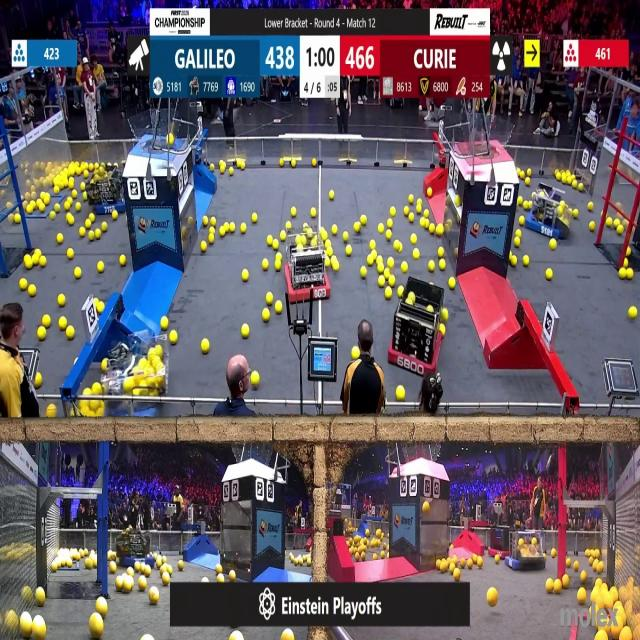ball_airborne: (169, 136, 174, 146)
ball_ground: (91, 616, 104, 638), (22, 616, 34, 638), (34, 620, 46, 640), (97, 598, 108, 615), (488, 588, 498, 606), (36, 589, 45, 607), (576, 589, 586, 605), (149, 588, 158, 605), (282, 630, 294, 640), (46, 406, 55, 419), (170, 332, 178, 346), (202, 340, 210, 354), (396, 386, 404, 400), (545, 580, 553, 594), (122, 582, 131, 594), (93, 383, 102, 395), (242, 324, 250, 337), (162, 317, 170, 330), (38, 326, 46, 339), (251, 373, 259, 386), (555, 580, 562, 594), (267, 292, 275, 304), (74, 268, 82, 280), (42, 315, 50, 327), (630, 308, 638, 320), (140, 578, 147, 591), (562, 575, 569, 588), (26, 258, 33, 271), (60, 318, 68, 329), (620, 269, 628, 280), (18, 279, 26, 290), (440, 561, 448, 572), (59, 294, 66, 306), (379, 276, 386, 288), (67, 326, 74, 338), (36, 374, 42, 388), (360, 267, 367, 279), (352, 347, 359, 359), (109, 562, 116, 574), (378, 265, 386, 275), (388, 277, 396, 287), (264, 309, 270, 322), (116, 579, 122, 592), (102, 358, 108, 371), (98, 263, 105, 274), (545, 270, 552, 281), (627, 269, 634, 280), (164, 573, 171, 584), (385, 288, 392, 299), (29, 284, 36, 295), (443, 310, 450, 321), (98, 303, 105, 314), (435, 223, 442, 234), (413, 249, 420, 260), (243, 270, 249, 282), (119, 254, 125, 266), (68, 248, 74, 260), (276, 302, 282, 314), (454, 568, 460, 580), (579, 570, 585, 582), (331, 262, 338, 272), (210, 216, 217, 226), (230, 222, 237, 232), (230, 570, 237, 580), (478, 558, 485, 568), (41, 192, 48, 202), (87, 558, 94, 568), (231, 633, 241, 640), (524, 255, 530, 266), (450, 278, 456, 289), (58, 234, 64, 245), (428, 262, 434, 273), (551, 240, 557, 251), (264, 261, 270, 272), (68, 213, 74, 224), (512, 255, 518, 266), (202, 242, 208, 253), (397, 286, 403, 297), (423, 501, 429, 512), (354, 222, 361, 231), (401, 264, 407, 274), (276, 262, 282, 272), (388, 257, 394, 267), (412, 235, 418, 245), (40, 256, 46, 266), (331, 224, 337, 234), (394, 241, 400, 251), (386, 231, 392, 241), (311, 208, 317, 218), (360, 215, 366, 225), (368, 240, 374, 250), (366, 255, 372, 265), (204, 216, 210, 226), (220, 228, 226, 238), (440, 248, 446, 258), (618, 224, 624, 234), (273, 240, 279, 250), (326, 247, 332, 257), (387, 218, 393, 228), (420, 217, 426, 227), (596, 576, 602, 586), (435, 560, 441, 570), (145, 566, 151, 576), (68, 178, 74, 188), (217, 574, 224, 582), (155, 560, 162, 568), (441, 261, 446, 272), (269, 236, 274, 247), (403, 207, 409, 216), (280, 233, 286, 242), (379, 223, 385, 232), (516, 238, 522, 247), (79, 229, 85, 238), (96, 231, 102, 240), (90, 232, 96, 241), (409, 193, 415, 202), (66, 203, 72, 212), (102, 222, 108, 231), (13, 214, 19, 223), (577, 182, 583, 191), (590, 221, 596, 230), (606, 218, 612, 227), (428, 224, 434, 233), (108, 552, 114, 561), (134, 563, 140, 572), (556, 172, 562, 181), (347, 246, 352, 256), (252, 213, 257, 223), (344, 233, 349, 243), (241, 222, 246, 232), (179, 560, 184, 570), (441, 324, 446, 334), (589, 202, 594, 212), (34, 249, 41, 256), (290, 208, 296, 216), (128, 567, 134, 575), (390, 208, 396, 216), (290, 161, 296, 169), (216, 565, 222, 573), (208, 225, 214, 233), (49, 212, 55, 220), (626, 248, 632, 256), (573, 562, 579, 570), (28, 206, 34, 214), (384, 270, 390, 278), (523, 202, 529, 210), (39, 204, 45, 212), (87, 220, 93, 228), (519, 170, 525, 178), (573, 210, 579, 218), (596, 634, 604, 640), (566, 560, 572, 568), (240, 163, 246, 171), (76, 203, 81, 212), (427, 187, 432, 196), (467, 560, 472, 569), (410, 213, 415, 222), (112, 211, 117, 220), (520, 216, 525, 225), (515, 228, 520, 237), (417, 206, 422, 215), (209, 236, 214, 245), (322, 233, 327, 242), (82, 190, 87, 199), (223, 222, 228, 231), (451, 246, 456, 255), (142, 635, 151, 640), (227, 168, 233, 175), (524, 178, 530, 185), (276, 253, 282, 260), (82, 171, 88, 178), (589, 559, 595, 566), (187, 216, 193, 223), (328, 190, 333, 198), (624, 259, 629, 267), (424, 210, 429, 218), (80, 182, 85, 190), (286, 220, 291, 228), (495, 556, 500, 564), (552, 551, 557, 559), (527, 170, 532, 178), (91, 214, 96, 222), (210, 165, 215, 173), (378, 256, 383, 264), (616, 219, 621, 227), (56, 185, 61, 193), (355, 554, 360, 562), (72, 189, 76, 198), (517, 198, 521, 207), (203, 576, 208, 583), (324, 241, 329, 248), (313, 160, 317, 168), (280, 161, 284, 169), (57, 205, 61, 213), (169, 565, 173, 573), (320, 226, 324, 234), (370, 250, 375, 256), (371, 555, 376, 561), (381, 554, 386, 560), (220, 167, 224, 174), (418, 199, 422, 206), (387, 554, 390, 560)
goal: (460, 118, 517, 158), (129, 115, 188, 152)
robot_blue: (120, 339, 170, 416), (525, 183, 570, 240), (88, 163, 126, 214), (116, 527, 156, 567), (506, 532, 546, 572)
robot_red: (391, 293, 443, 373), (288, 228, 329, 302), (487, 526, 513, 556)
